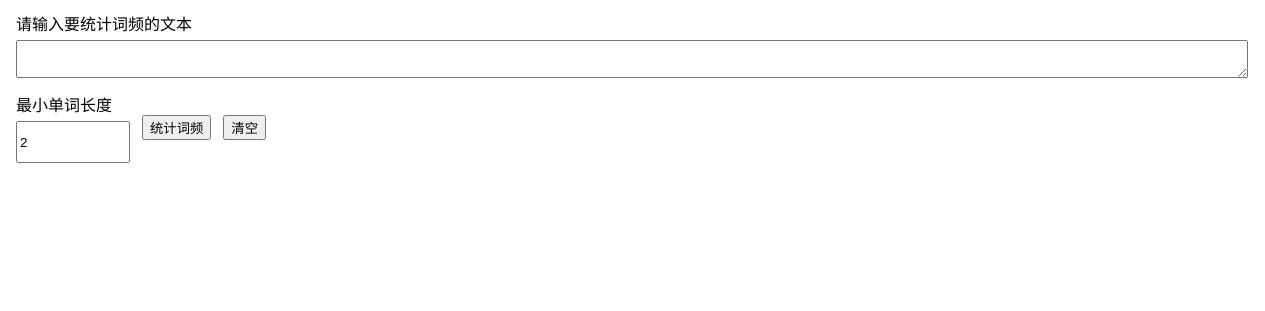
Test: developer and text tools › counts words case-insensitively and excludes short terms
In the text box labelled "请输入要统计词频的文本": (632, 59) [16,40,1248,78], type "Hello hello I 你好 你好"
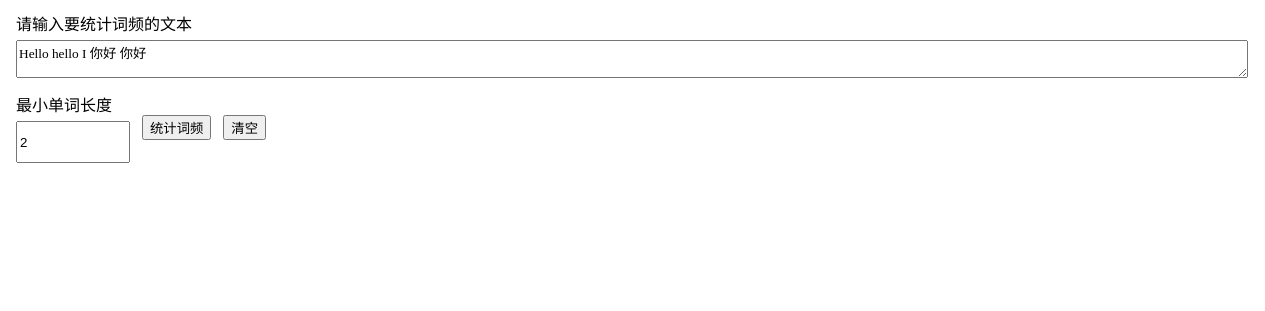
Click the button "统计词频": (177, 128) [142,115,211,140]
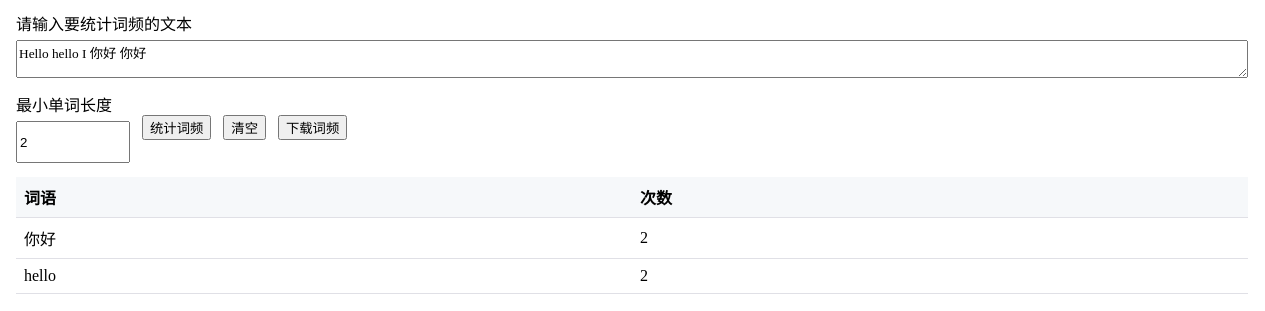
Result: the row "hello 2" is shown at [16,258,1248,294]
Result: the row "你好 2" is shown at [16,218,1248,258]
